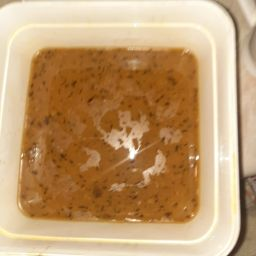Chicken Broth: (22, 31, 208, 241), (66, 96, 187, 218), (34, 124, 158, 225), (48, 55, 194, 135), (34, 50, 119, 158)
